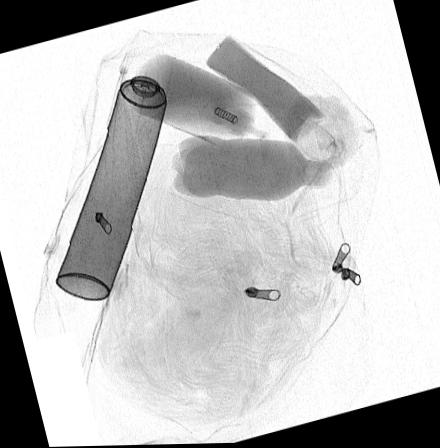Sprayer: (54, 46, 171, 299)
